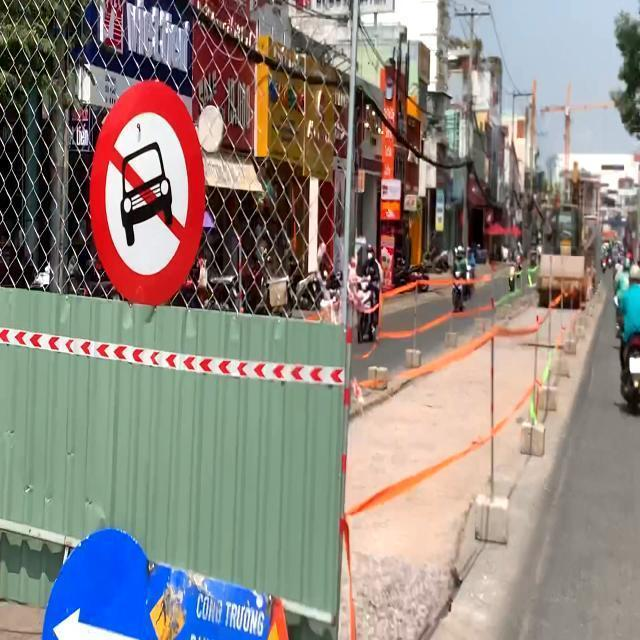103a-cam-oto: (86, 79, 205, 307)
